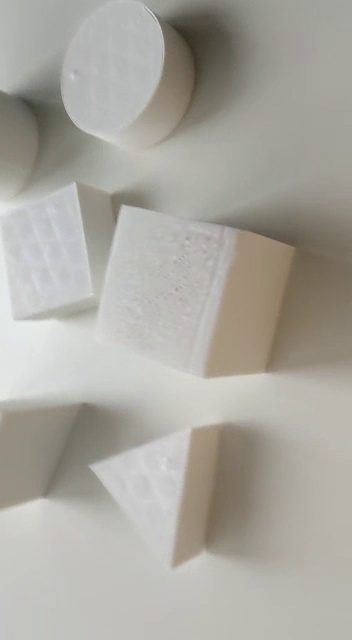Clyinder_short: (55, 1, 199, 154)
Cube: (87, 202, 298, 383)
Cube_short: (1, 185, 121, 325)
Triangle: (1, 387, 84, 517)
Triangle_short: (82, 419, 225, 575)
